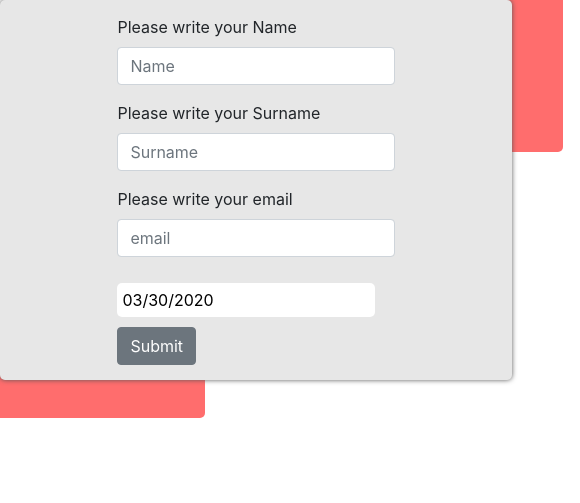
Test case: test input surname › checking surname input with ''
The width and height of the screenshot is (580, 503).
Type "Marcin" into the field labelled "Name" at (256,66), box top-left (117, 47), bottom-right (395, 85)
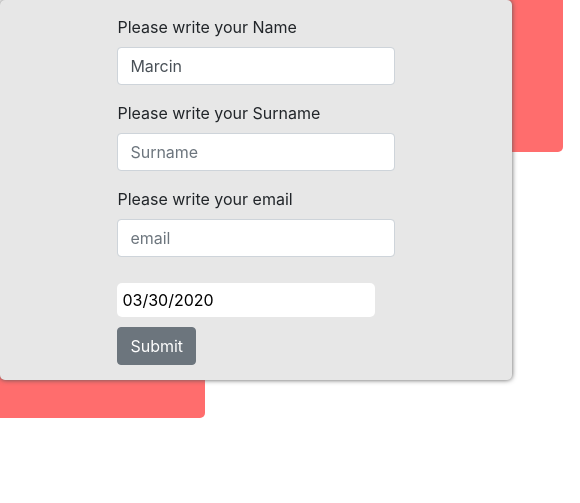
Type "marcin@email.com" into the field labelled "email" at (256,238), box top-left (117, 219), bottom-right (395, 257)
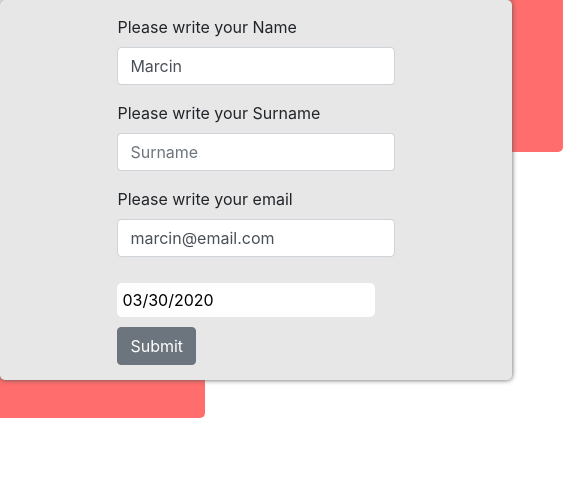
Click the button with aria-label "button" at (157,346), box top-left (117, 327), bottom-right (196, 365)
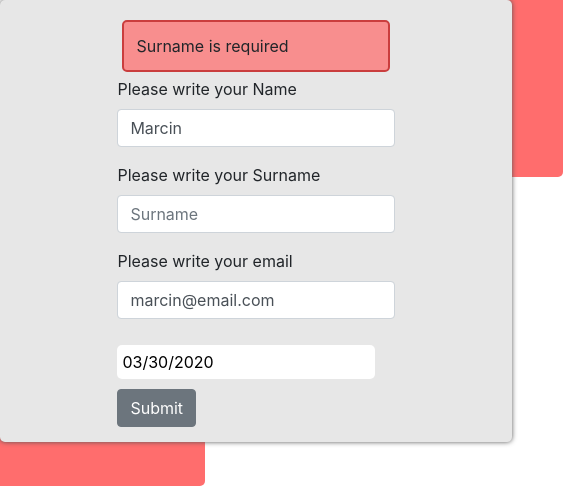
Check: the text "Surname is required" is shown, box top-left (136, 36), bottom-right (289, 56)
